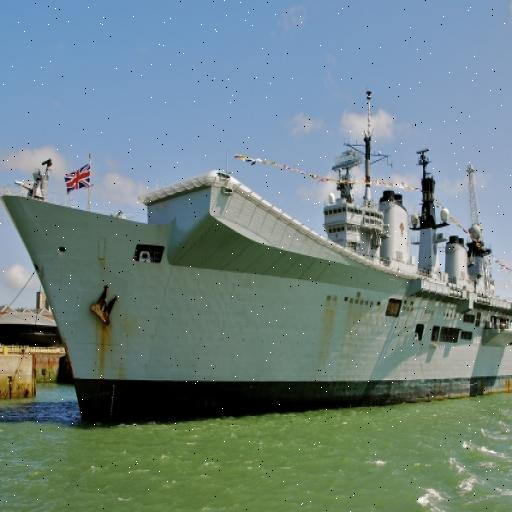Portanaves: (1, 80, 512, 431)
